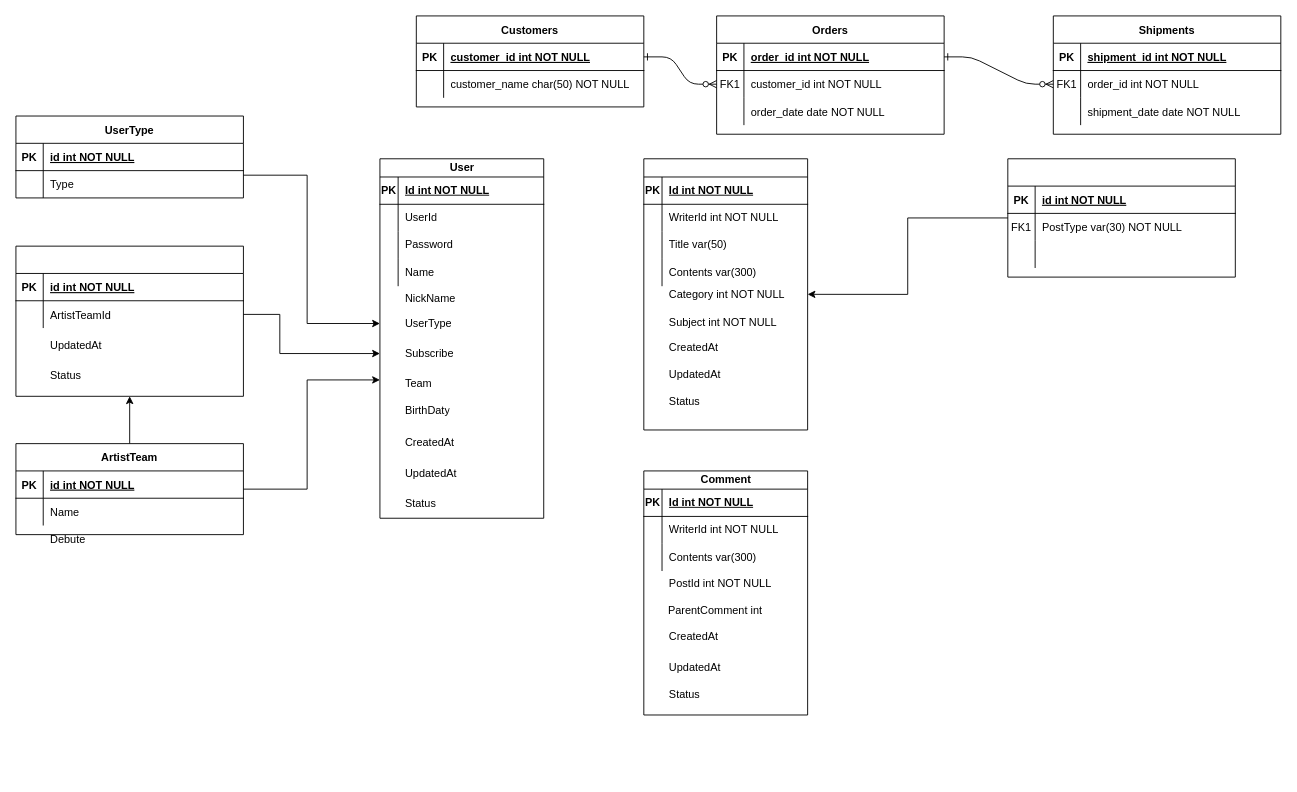
This 1297x792 diagram has some shape labels left out. Each missing label, with the box of its shape:
Category: (1007, 158, 1235, 277)
Post: (643, 158, 808, 430)
Subscribe ( aritistTeam 테이블로 대체 가능?): (15, 245, 243, 396)
